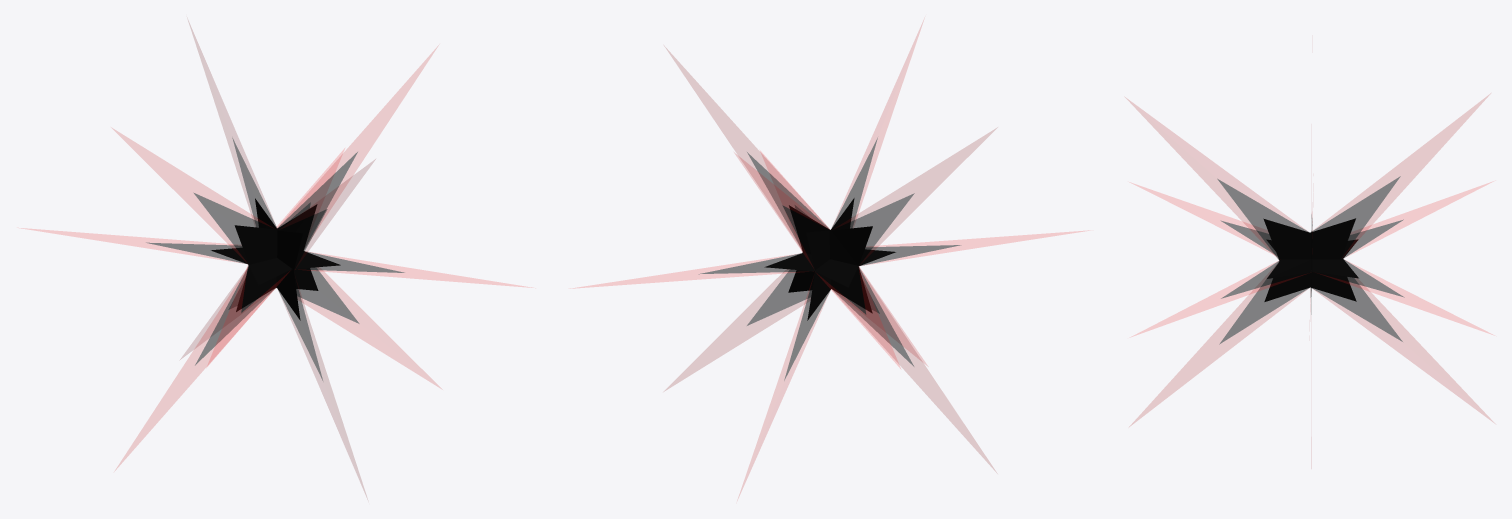
The model's file is effect.FBX.
3 views of the same model, side by side, from view 1: azimuth 30°, elevation 25°; view 2: azimuth 150°, elevation 25°; view 3: azimuth 270°, elevation 25° (orthographic). The views are drawn at different scales.
Visible parts, largest first — view 1: VIFS003, VIFS002, VIFS001; view 2: VIFS003, VIFS002, VIFS001; view 3: VIFS003, VIFS002, VIFS001.
Part boxes in pixels (x1=…): VIFS003: x1=23, y1=21, x2=523, y2=496; VIFS002: x1=146, y1=138, x2=404, y2=380; VIFS001: x1=211, y1=198, x2=340, y2=320; VIFS003: x1=579, y1=23, x2=1082, y2=497; VIFS002: x1=699, y1=138, x2=960, y2=380; VIFS001: x1=764, y1=198, x2=895, y2=320; VIFS003: x1=1126, y1=95, x2=1492, y2=424; VIFS002: x1=1217, y1=176, x2=1404, y2=344; VIFS001: x1=1263, y1=218, x2=1358, y2=301.
Size of the model in its own units: 0.853 by 0.859 by 0.858.
